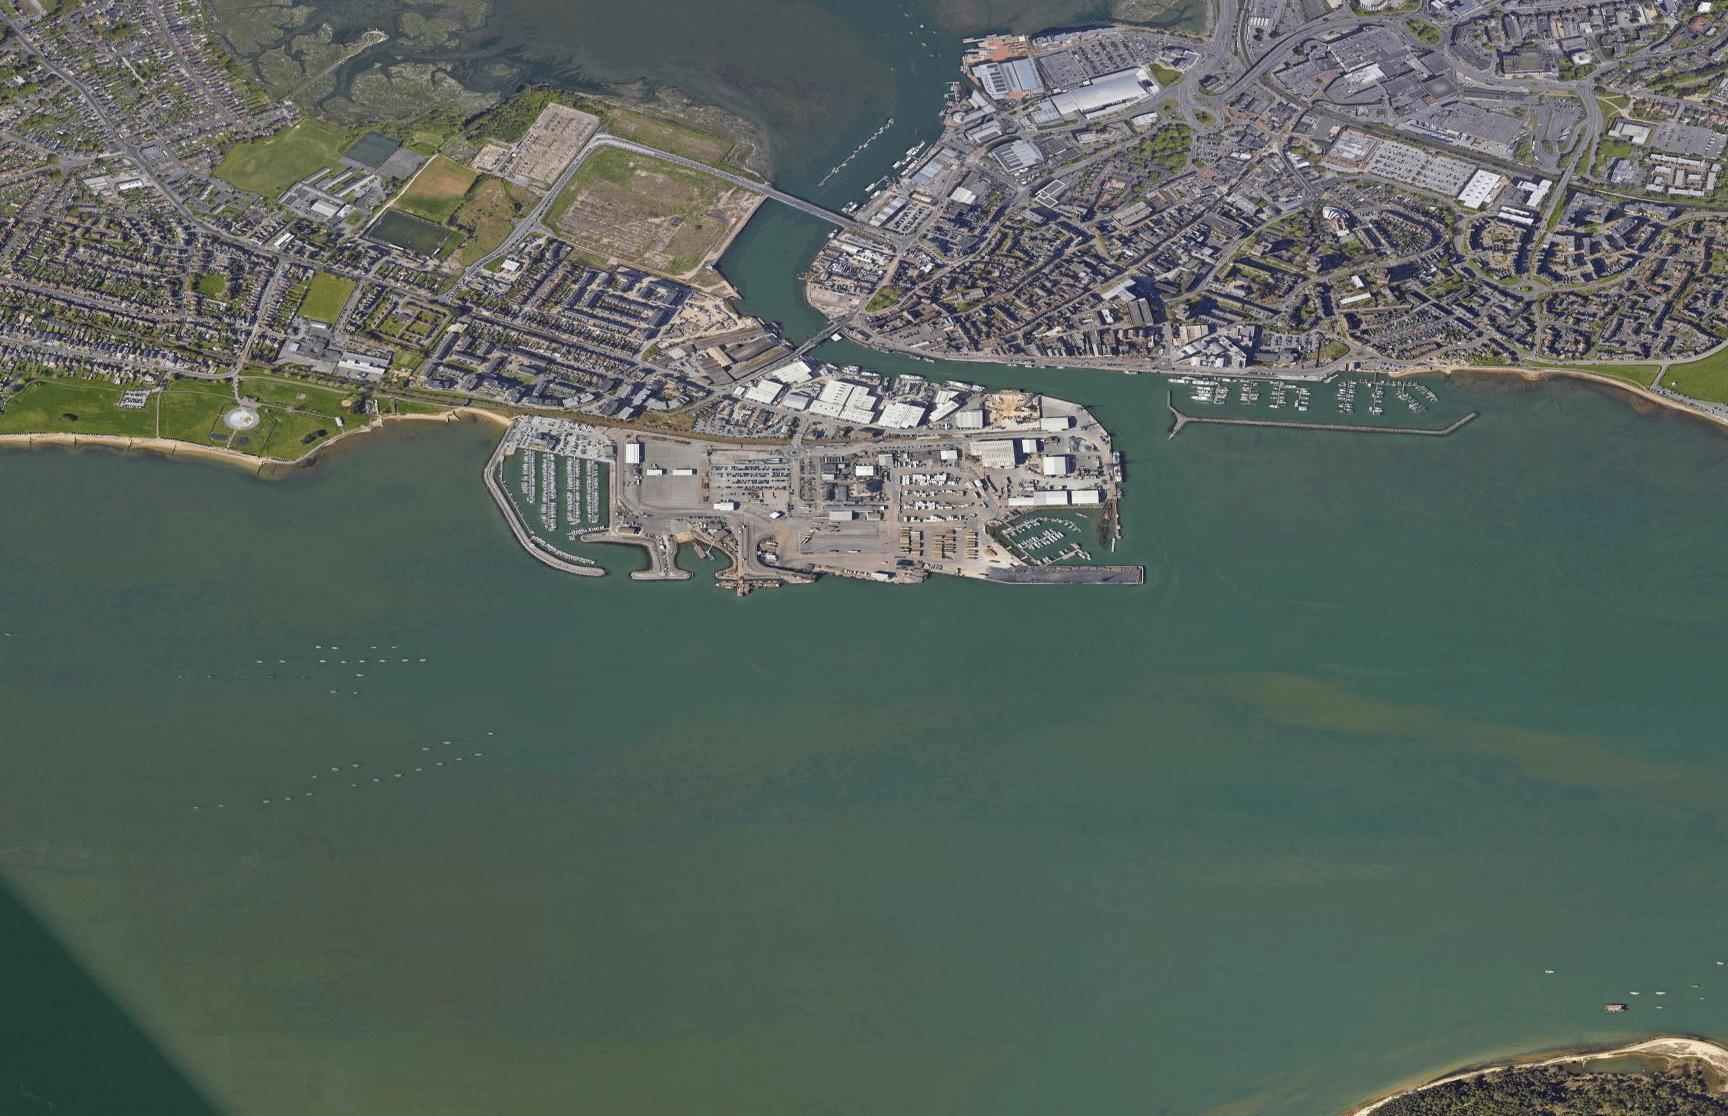bridge: (770, 184, 848, 228), (800, 322, 839, 353)
harbor: (475, 341, 1475, 659)
industrial: (935, 26, 1186, 181)
